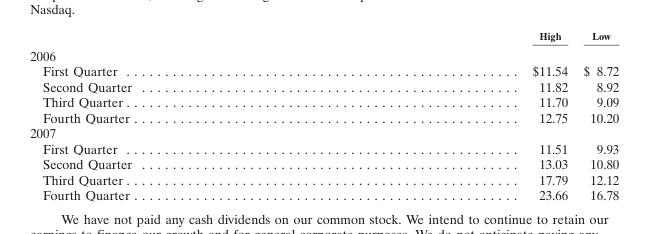table: (29, 29, 618, 202)
table column: (29, 29, 331, 202), (331, 29, 575, 202), (575, 29, 618, 202)
table column header: (29, 29, 618, 44)
table projected row header: (29, 44, 618, 63), (29, 125, 618, 140)
table row: (29, 44, 618, 63), (29, 78, 618, 94), (29, 109, 618, 125), (29, 140, 618, 156), (29, 171, 618, 187), (29, 29, 618, 44), (29, 63, 618, 78), (29, 94, 618, 109), (29, 125, 618, 140), (29, 156, 618, 171), (29, 187, 618, 202)
